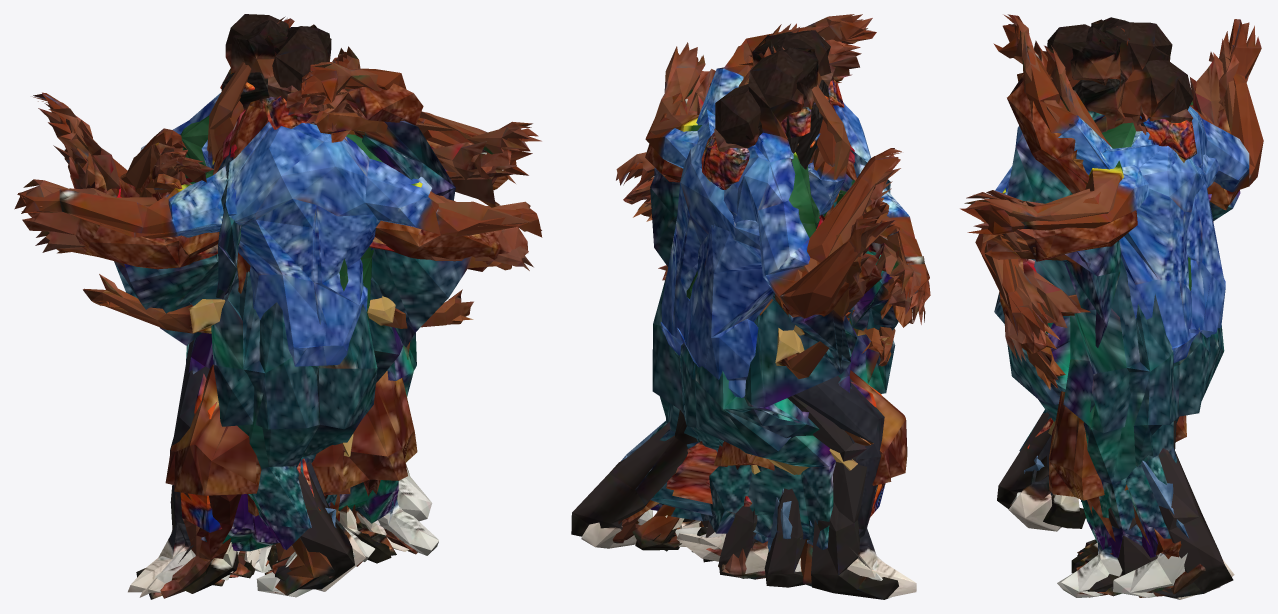
File: concert.glb
3 renders of one model, left to right at view 1: azimuth 30°, elevation 25°; view 2: azimuth 150°, elevation 25°; view 3: azimuth 270°, elevation 25°, orthographic. The views are drawn at different scales.
Parts seen in each view (by area): view 1: bureau-p2-haut, maman-p2-haut, ancien-p3-haut, ancien-p2-haut, ancien-p1-haut, jeune-p3-haut, maman-p2-bas, etudiante-p3-haut, ancien-p1-bas, eleve-garcon-p2-haut, maman-p1-haut, maman-p1-bas (+24 smaller); view 2: bureau-p3-haut, maman-p3-haut, bureau-p1-haut, etudiante-p3-haut, maman-p3-bas, jeune-p3-haut, maman-p1-haut, bureau-p0-haut, bureau-p2-haut, ancien-p3-haut, vendeuse-p3-haut, bureau-p3-bas (+20 smaller); view 3: bureau-p3-haut, bureau-p1-haut, maman-p1-haut, jeune-p3-haut, maman-p1-bas, ancien-p1-haut, maman-p3-haut, ancien-p3-haut, bureau-p2-haut, etudiante-p2-haut, maman-p3-bas, jeune-p2-haut (+18 smaller).
Part boxes in pixels (bbox=[...]): bureau-p2-haut: bbox=[14, 30, 542, 589]; maman-p2-haut: bbox=[57, 248, 511, 595]; ancien-p3-haut: bbox=[48, 103, 520, 598]; ancien-p2-haut: bbox=[22, 76, 528, 573]; ancien-p1-haut: bbox=[140, 83, 423, 554]; jeune-p3-haut: bbox=[38, 20, 532, 583]; maman-p2-bas: bbox=[56, 248, 501, 578]; etudiante-p3-haut: bbox=[81, 72, 486, 592]; ancien-p1-bas: bbox=[152, 92, 414, 540]; eleve-garcon-p2-haut: bbox=[83, 274, 473, 574]; maman-p1-haut: bbox=[139, 112, 455, 523]; maman-p1-bas: bbox=[152, 112, 455, 511]; bureau-p3-haut: bbox=[571, 47, 898, 599]; maman-p3-haut: bbox=[635, 145, 861, 586]; bureau-p1-haut: bbox=[657, 14, 901, 578]; etudiante-p3-haut: bbox=[581, 69, 916, 597]; maman-p3-bas: bbox=[650, 168, 861, 553]; jeune-p3-haut: bbox=[621, 42, 894, 598]; maman-p1-haut: bbox=[652, 197, 888, 579]; bureau-p0-haut: bbox=[702, 23, 846, 587]; bureau-p2-haut: bbox=[616, 30, 930, 536]; ancien-p3-haut: bbox=[625, 71, 907, 528]; vendeuse-p3-haut: bbox=[612, 96, 885, 543]; bureau-p3-bas: bbox=[675, 57, 873, 565]; bureau-p3-haut: bbox=[960, 19, 1263, 597]; bureau-p1-haut: bbox=[993, 14, 1219, 591]; maman-p1-haut: bbox=[1007, 74, 1211, 596]; jeune-p3-haut: bbox=[964, 17, 1234, 597]; maman-p1-bas: bbox=[1009, 73, 1209, 557]; ancien-p1-haut: bbox=[1007, 51, 1208, 597]; maman-p3-haut: bbox=[982, 190, 1240, 592]; ancien-p3-haut: bbox=[981, 52, 1249, 597]; bureau-p2-haut: bbox=[975, 24, 1192, 509]; etudiante-p2-haut: bbox=[1008, 73, 1193, 531]; maman-p3-bas: bbox=[991, 235, 1170, 558]; jeune-p2-haut: bbox=[982, 27, 1120, 504].
Bounding box in the file's own units: 1.41 × 1.76 × 0.9416.
Materials: 1 (1 with a texture image).
